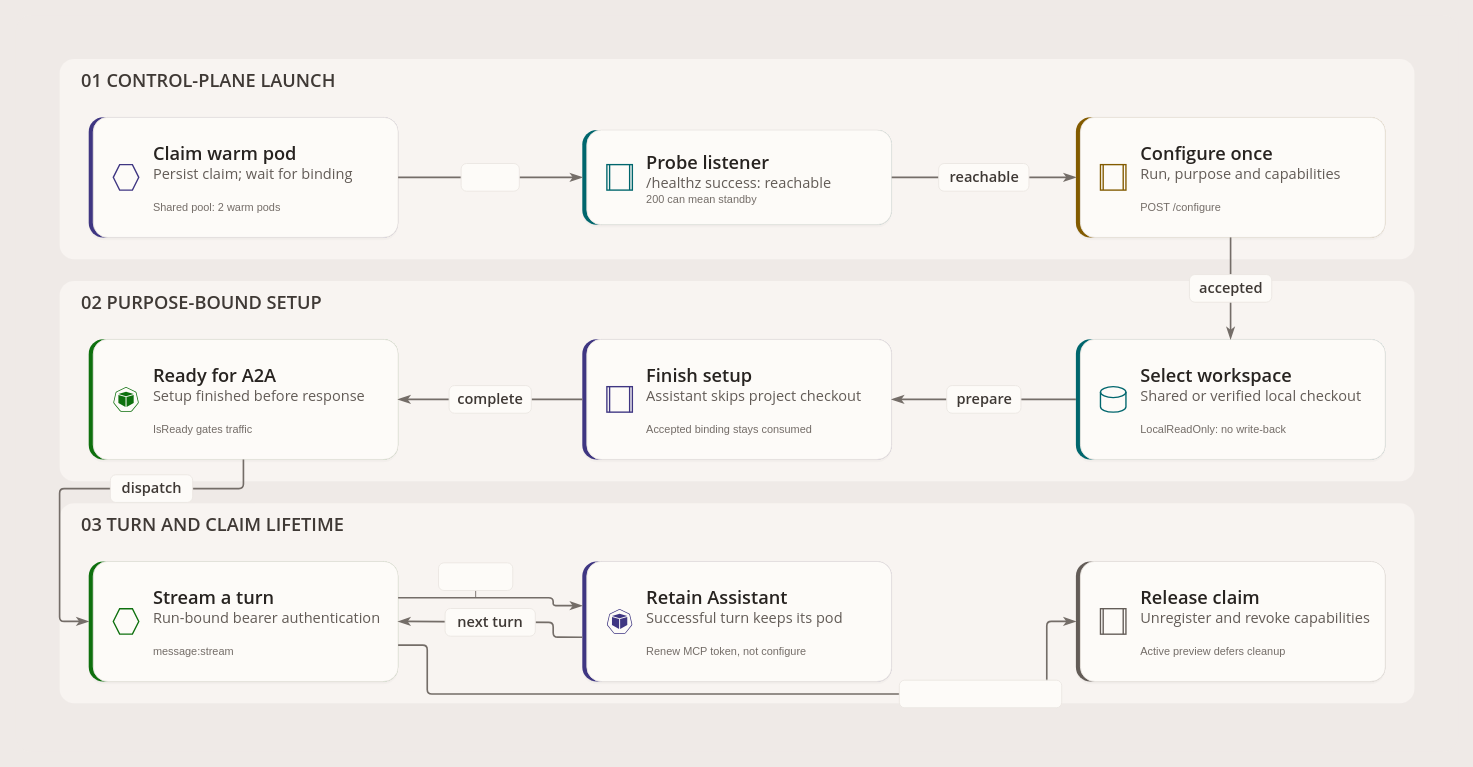
Some shapes in this 1473 by 767 pixel diagram are drawn without their labels. Each missing label, with the centre of its shape:
"bound" goes at pixel 489 177.
"run ends / failure" goes at pixel 980 693.
"success" goes at pixel 475 576.
